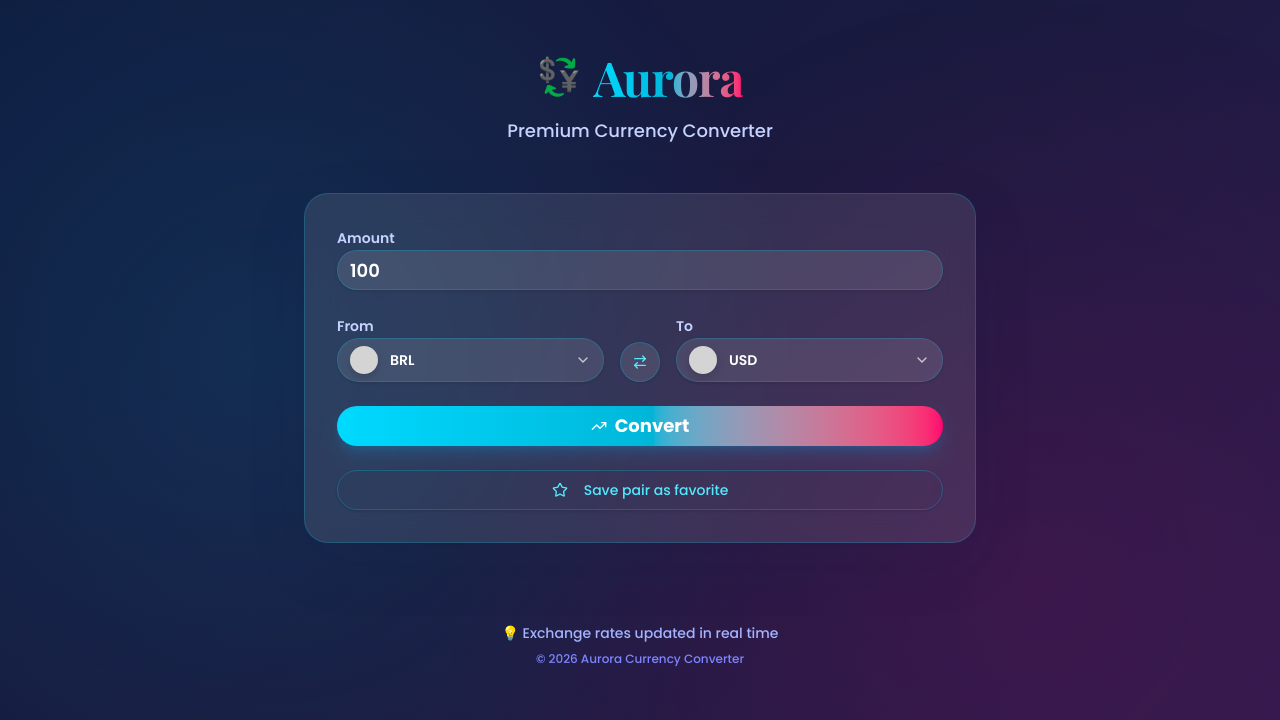
Home › deve renderizar textos e formatação em inglês quando o idioma for en-US
Expected: the text "Premium Currency Converter" is shown, [507,117,773,145]
Expected: the button "Save pair as favorite" is shown, [337,470,943,510]
Click the button "Convert".
click(640, 426)  # box [337,406,943,446]
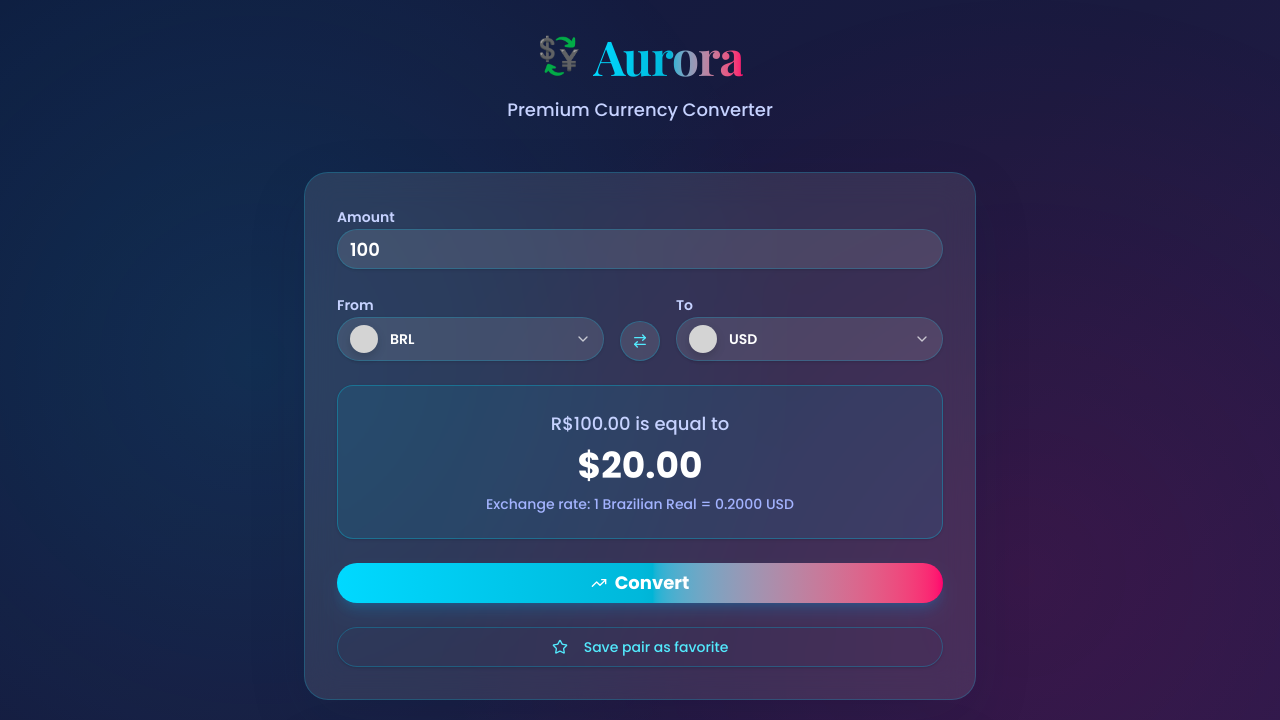
Expected: the text "Exchange rate: 1 Brazilian Real = 0.2000 USD" is shown, [486,494,794,514]
Expected: the text "$20.00" is shown, [578,440,702,491]
